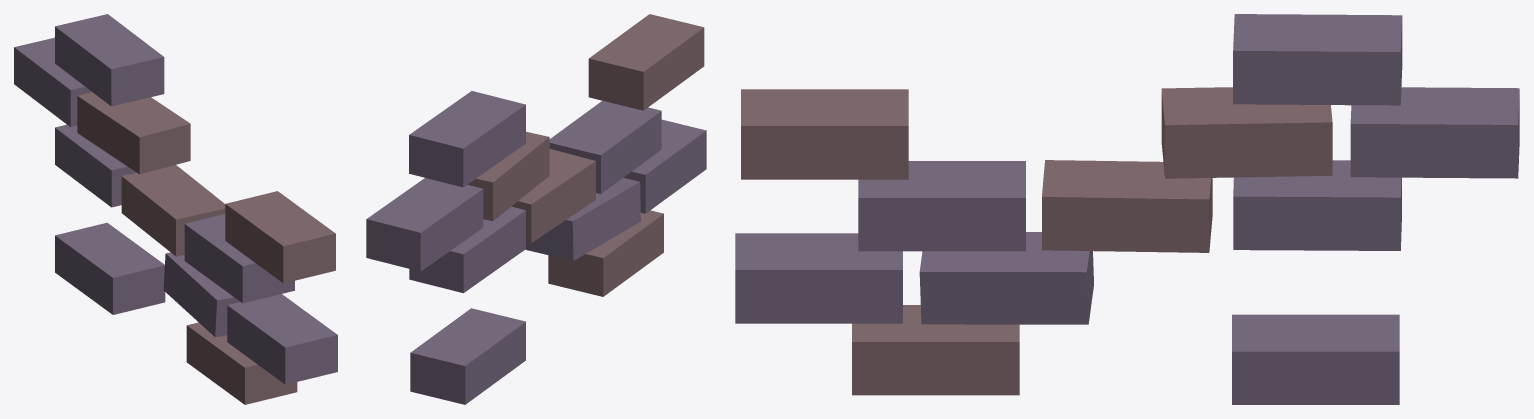
Rendered from bricks array1.fbx.
3 views of the same model, side by side, from view 1: azimuth 30°, elevation 25°; view 2: azimuth 150°, elevation 25°; view 3: azimuth 270°, elevation 25° (orthographic). The views are drawn at different scales.
Visible parts, largest first — view 1: Cube.040; view 2: Cube.040; view 3: Cube.040.
Part boxes in pixels (x1,y1,x2,y2): Cube.040: [14, 14, 337, 404]; Cube.040: [366, 14, 706, 404]; Cube.040: [735, 14, 1519, 404].
Bounding box in the file's own units: 200 × 781 × 1571.
